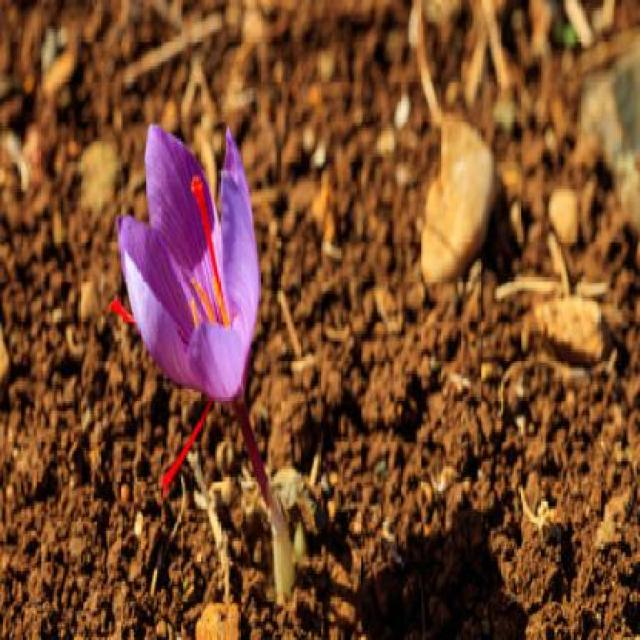Flower: (105, 118, 264, 418)
stigma: (153, 391, 224, 500), (184, 172, 229, 318)
